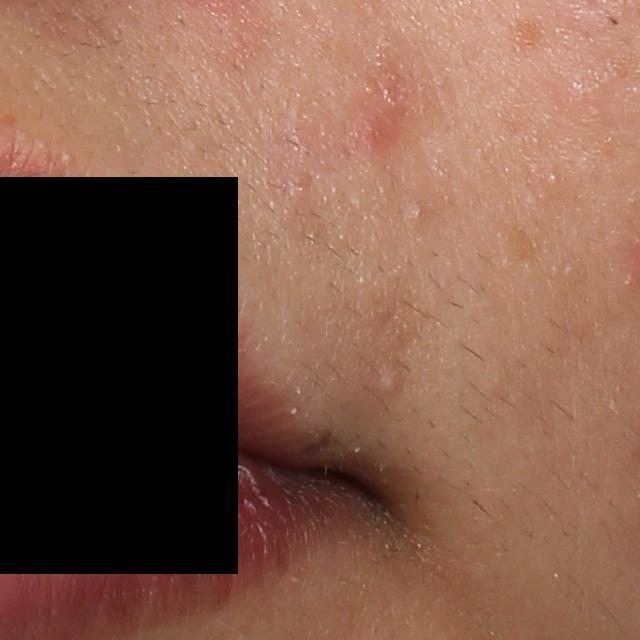comedo: (378, 372, 403, 396), (410, 201, 431, 225), (547, 168, 559, 186)
